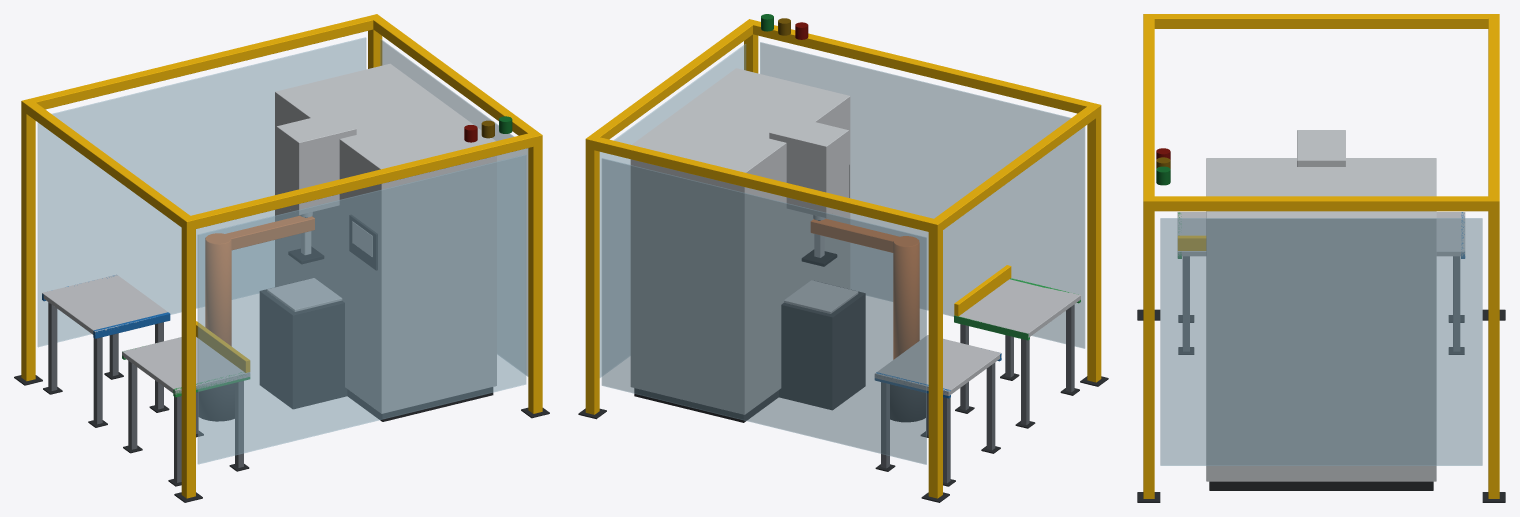
Rendered from machining_center.glb.
3 views of the same model, side by side, from view 1: azimuth 30°, elevation 25°; view 2: azimuth 150°, elevation 25°; view 3: azimuth 270°, elevation 25° (orthographic). The views are drawn at different scales.
Visible parts, largest first — view 1: Machining_Static, RobotArm; view 2: Machining_Static, RobotArm; view 3: Machining_Static.
Part boxes in pixels (box(x1,y1,x2,y2)): Machining_Static: box(14, 14, 549, 502); RobotArm: box(205, 216, 324, 346); Machining_Static: box(578, 19, 1108, 502); RobotArm: box(801, 219, 919, 359); Machining_Static: box(1137, 14, 1505, 502).
Bounding box in the file's own units: 3.16 × 2.43 × 2.56.
